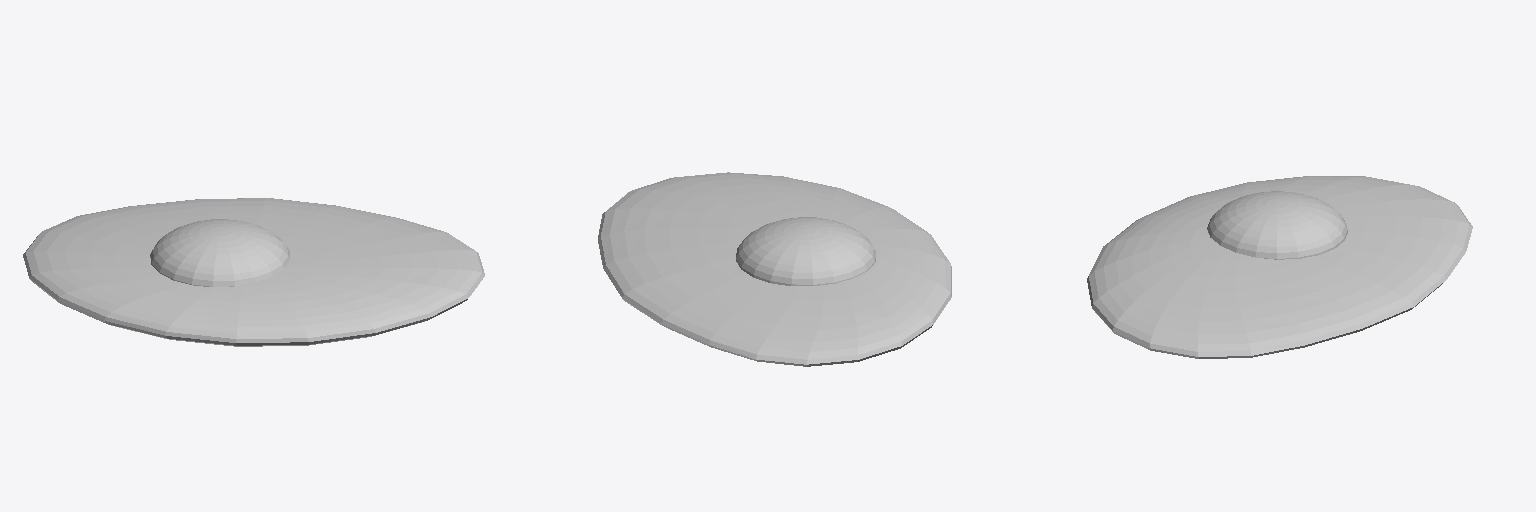
File: Egg.obj
The picture shows the model from 3 angles: view 1: azimuth 30°, elevation 25°; view 2: azimuth 150°, elevation 25°; view 3: azimuth 270°, elevation 25°; orthographic projection.
Parts seen in each view (by area): view 1: Egg_Sphere.005; view 2: Egg_Sphere.005; view 3: Egg_Sphere.005.
Boxes of the visible parts, <box> form: Egg_Sphere.005: <box>23,198,484,346</box>; Egg_Sphere.005: <box>598,172,951,366</box>; Egg_Sphere.005: <box>1087,176,1472,358</box>.
Bounding box in the file's own units: 1.81 × 0.3279 × 1.66.